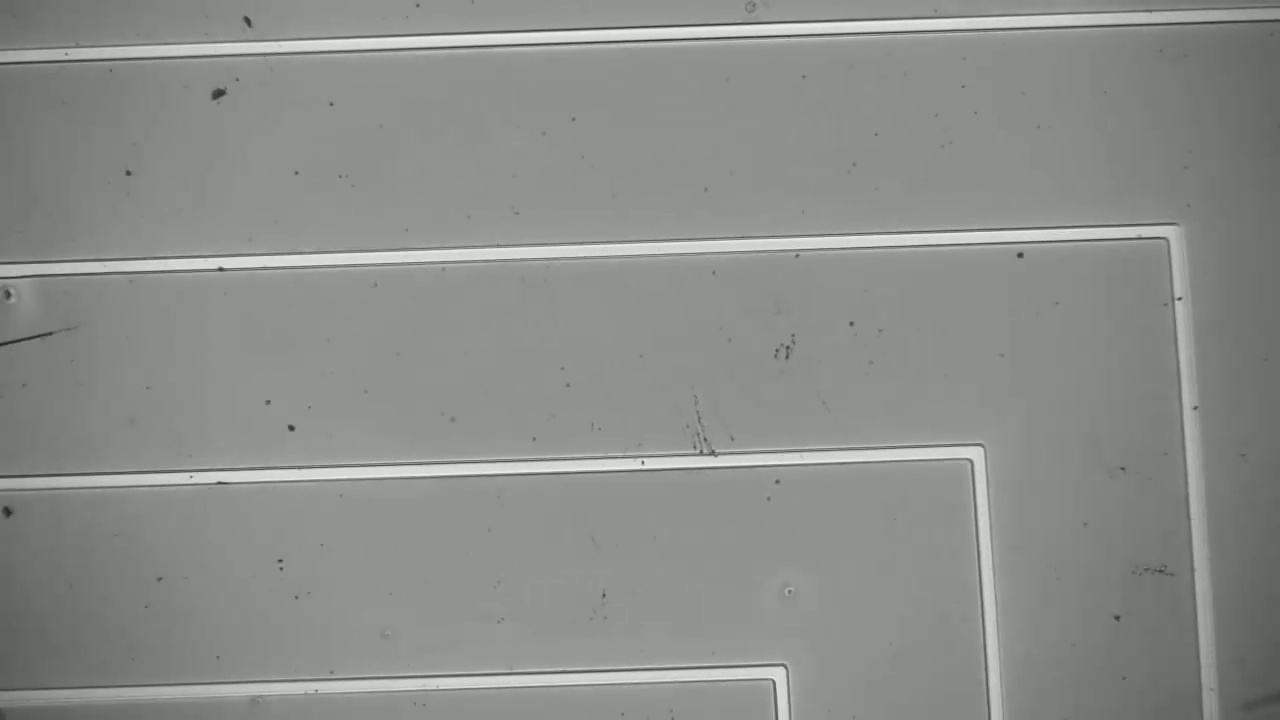scratch: (0, 308, 93, 374)
